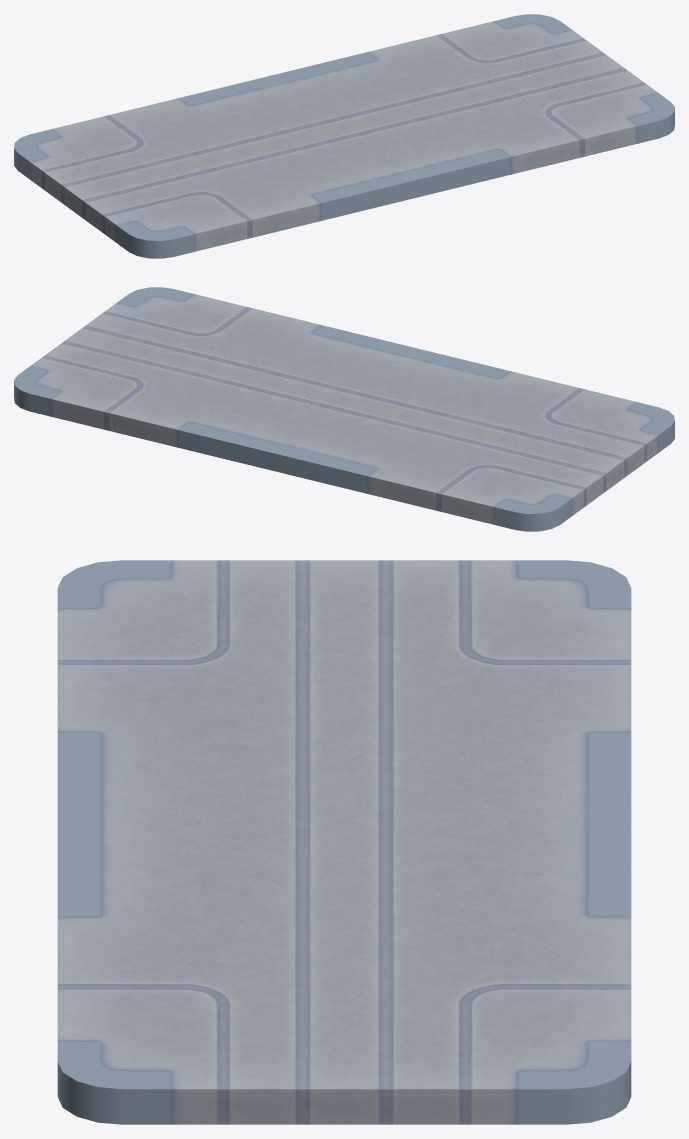
Rendered from SilverCard.FBX.
The picture shows the model from 3 angles, top to bottom: view 1: azimuth 30°, elevation 25°; view 2: azimuth 150°, elevation 25°; view 3: azimuth 270°, elevation 25°; orthographic projection. The views are drawn at different scales.
Parts seen in each view (by area): view 1: SilverCard; view 2: SilverCard; view 3: SilverCard.
Boxes of the visible parts, box(x1,y1,x2,y2) form: SilverCard: box(14, 14, 674, 258); SilverCard: box(14, 287, 674, 531); SilverCard: box(57, 560, 631, 1124).
Bounding box in the file's own units: 150 × 4.69 × 68.64.
1 material, 1 textured.
